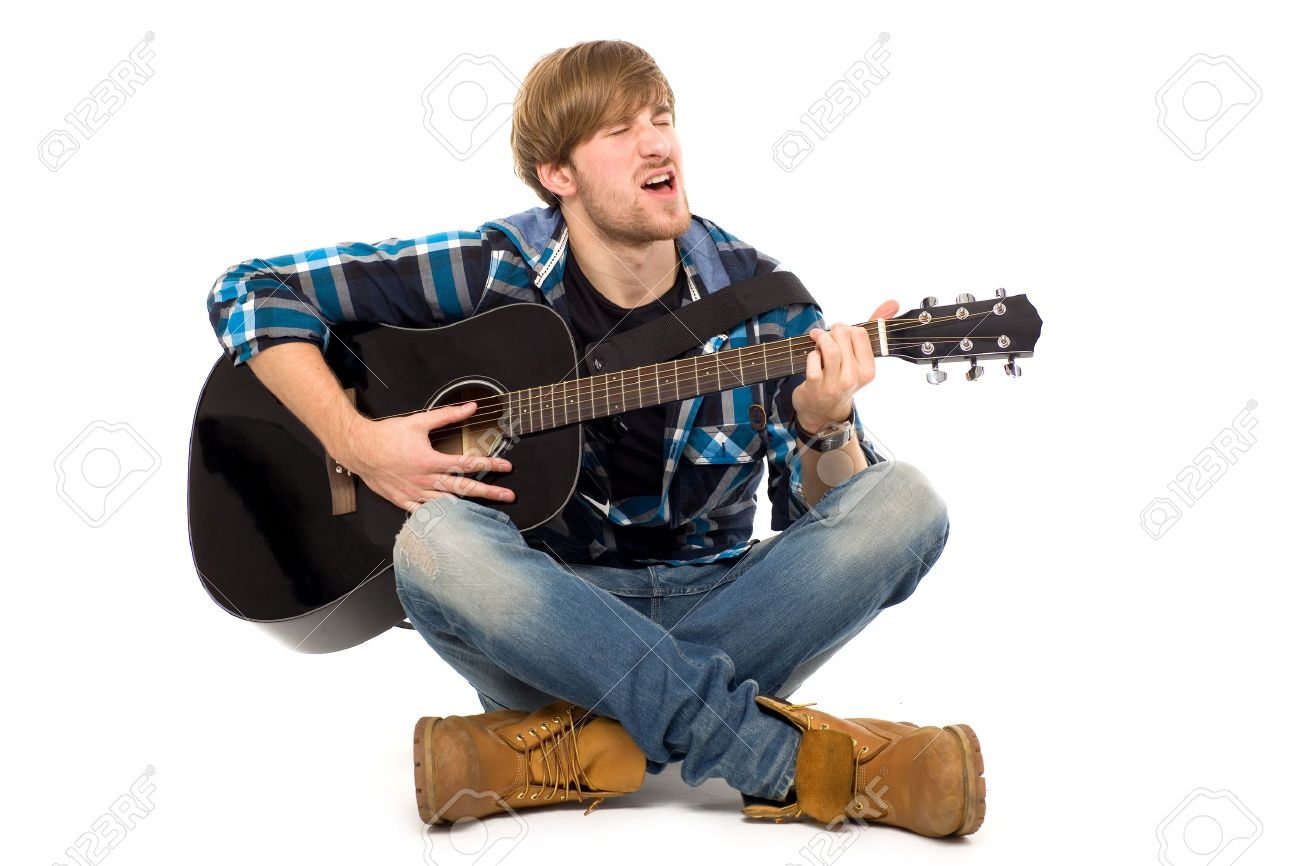fretboard: (507, 322, 881, 436)
